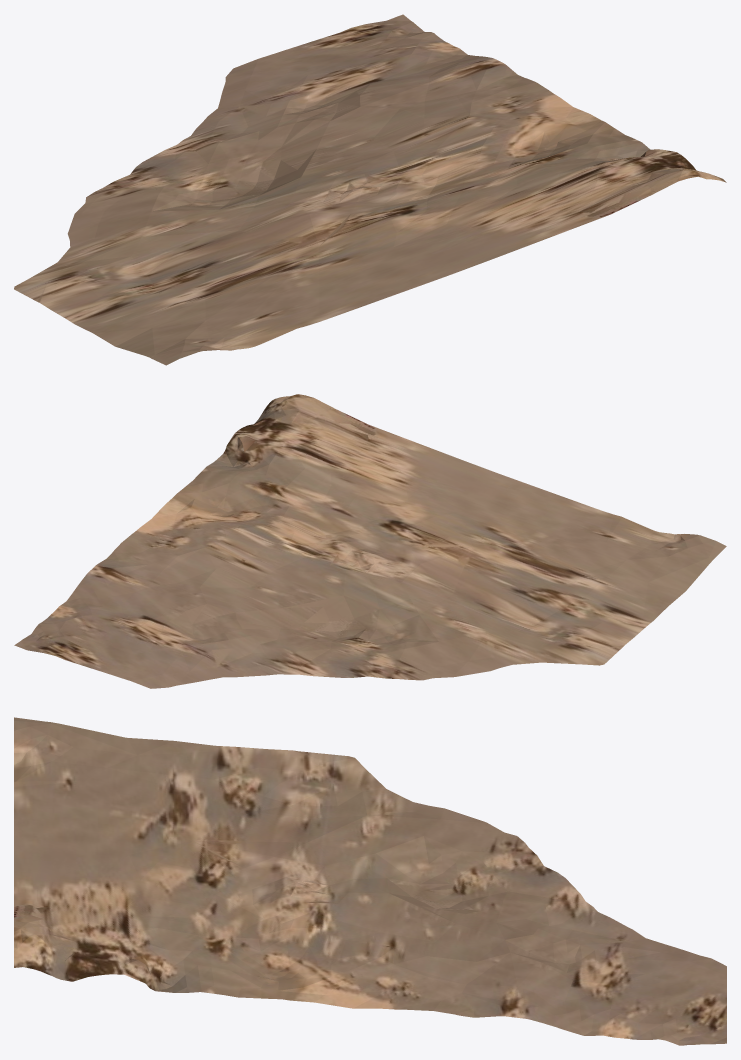
The picture shows the model from 3 angles, top to bottom: view 1: azimuth 30°, elevation 25°; view 2: azimuth 150°, elevation 25°; view 3: azimuth 270°, elevation 25°; orthographic projection. The views are drawn at different scales.
Size of the model in its own units: 2.09 by 0.3398 by 2.09.
2 materials, 2 textured.
